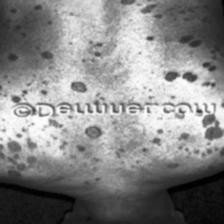Non-Cancerous Skin Condition: (127, 0, 224, 95), (1, 120, 110, 174), (0, 48, 98, 100), (155, 117, 224, 172), (3, 1, 84, 34)
